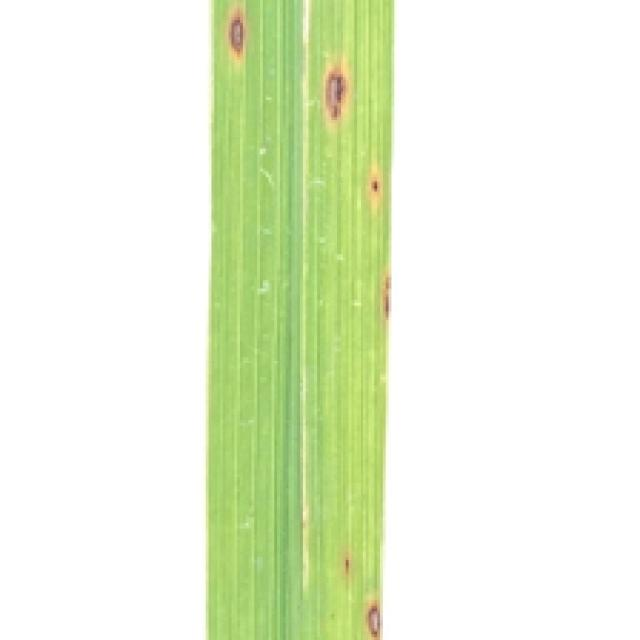Rice___Rice_Blast: (207, 0, 397, 637)
